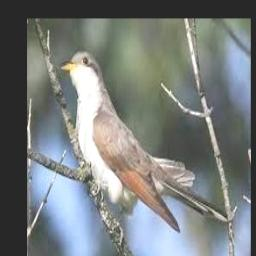Cuckoo: (60, 51, 195, 233)
